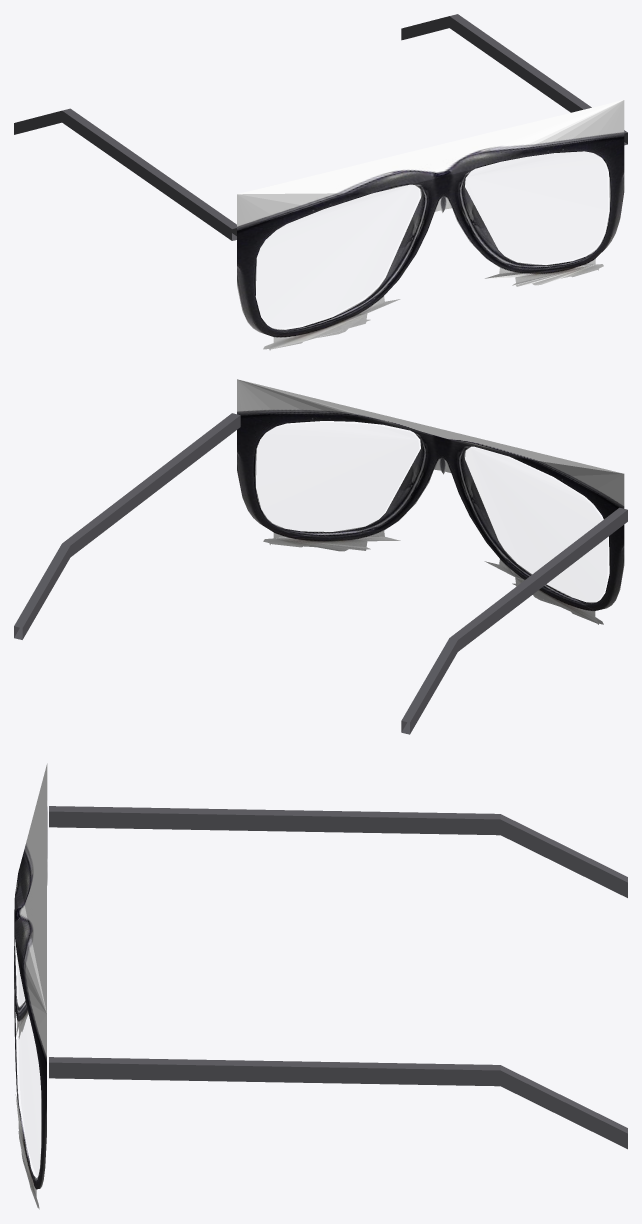
The model's file is gothamstyle-matte-251_black.glb.
3 renders of one model, top to bottom at view 1: azimuth 30°, elevation 25°; view 2: azimuth 150°, elevation 25°; view 3: azimuth 270°, elevation 25°, orthographic. The views are drawn at different scales.
Parts seen in each view (by area): view 1: frame_front, temple_viewer_left, temple_viewer_right; view 2: frame_front, temple_viewer_left, temple_viewer_right; view 3: temple_viewer_right, temple_viewer_left, frame_front.
Part boxes in pixels (box(x1,y1,x2,y2)): frame_front: box(237, 100, 624, 350); temple_viewer_left: box(14, 108, 236, 240); temple_viewer_right: box(401, 14, 627, 145); frame_front: box(237, 379, 624, 624); temple_viewer_left: box(401, 507, 627, 734); temple_viewer_right: box(14, 413, 240, 639); temple_viewer_right: box(49, 1057, 627, 1149); temple_viewer_left: box(49, 806, 627, 897); frame_front: box(14, 763, 47, 1209).
Bounding box in the file's own units: 0.1394 × 0.0543 × 0.141.
3 materials, 2 textured.
